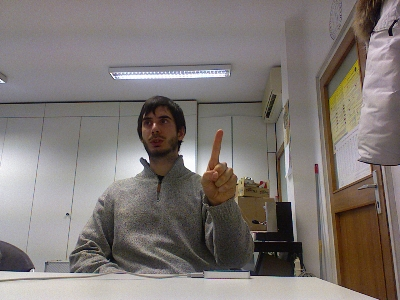食指: (199, 128, 237, 203)
